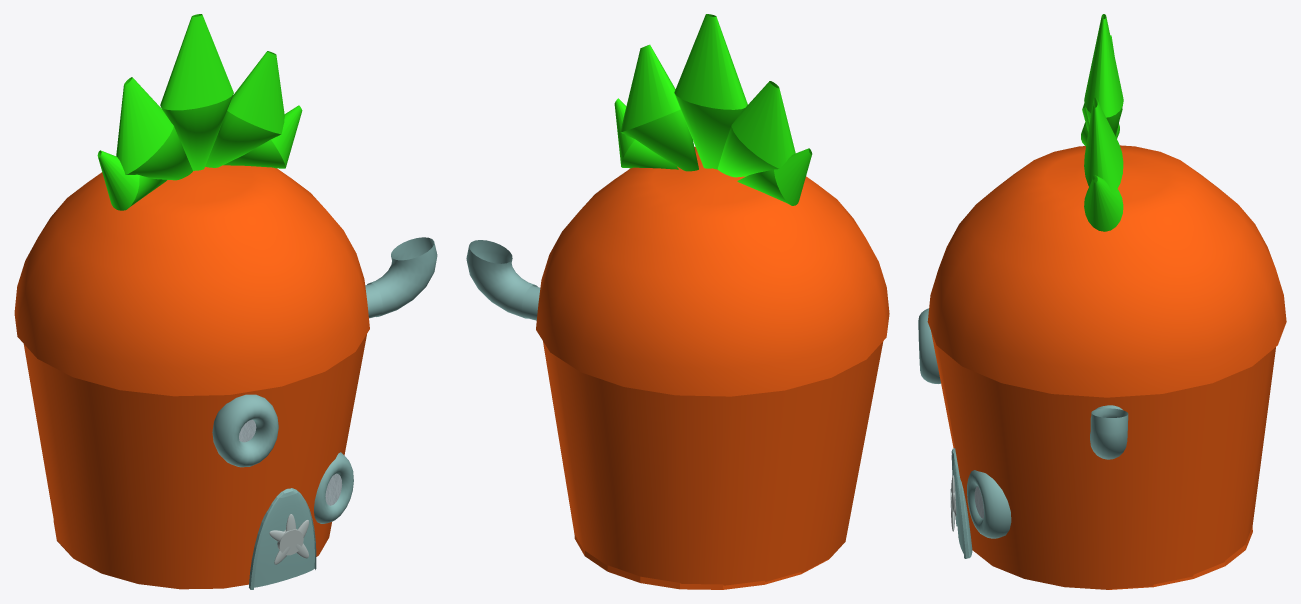
Rendered from bob.obj.
3 views of the same model, side by side, from view 1: azimuth 30°, elevation 25°; view 2: azimuth 150°, elevation 25°; view 3: azimuth 270°, elevation 25° (orthographic).
Visible parts, largest first — view 1: pSphere9; view 2: pSphere9; view 3: pSphere9.
Boxes of the visible parts, <box> form: pSphere9: <box>14,14,437,589</box>; pSphere9: <box>466,14,889,589</box>; pSphere9: <box>918,14,1286,589</box>.
Size of the model in its own units: 3 by 3.71 by 2.39.
Materials: 7 (6 with a texture image).
